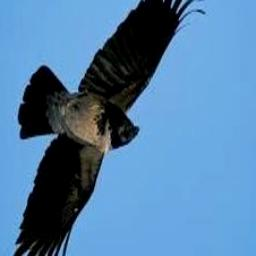Crow: (8, 0, 205, 256)
